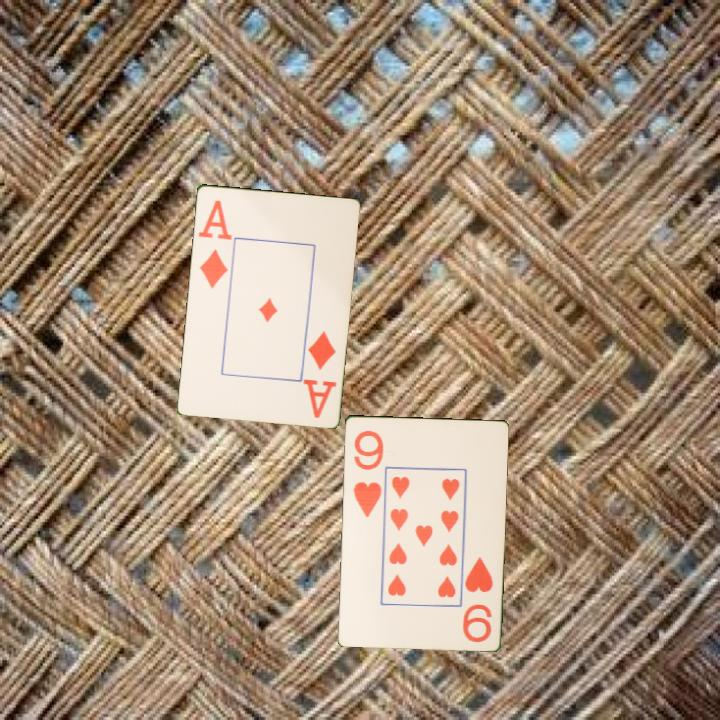9h: (459, 553, 495, 645), (350, 426, 385, 520)
Ad: (195, 196, 234, 291), (301, 327, 339, 421)
